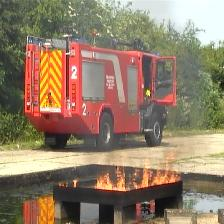fire: (94, 150, 180, 191)
